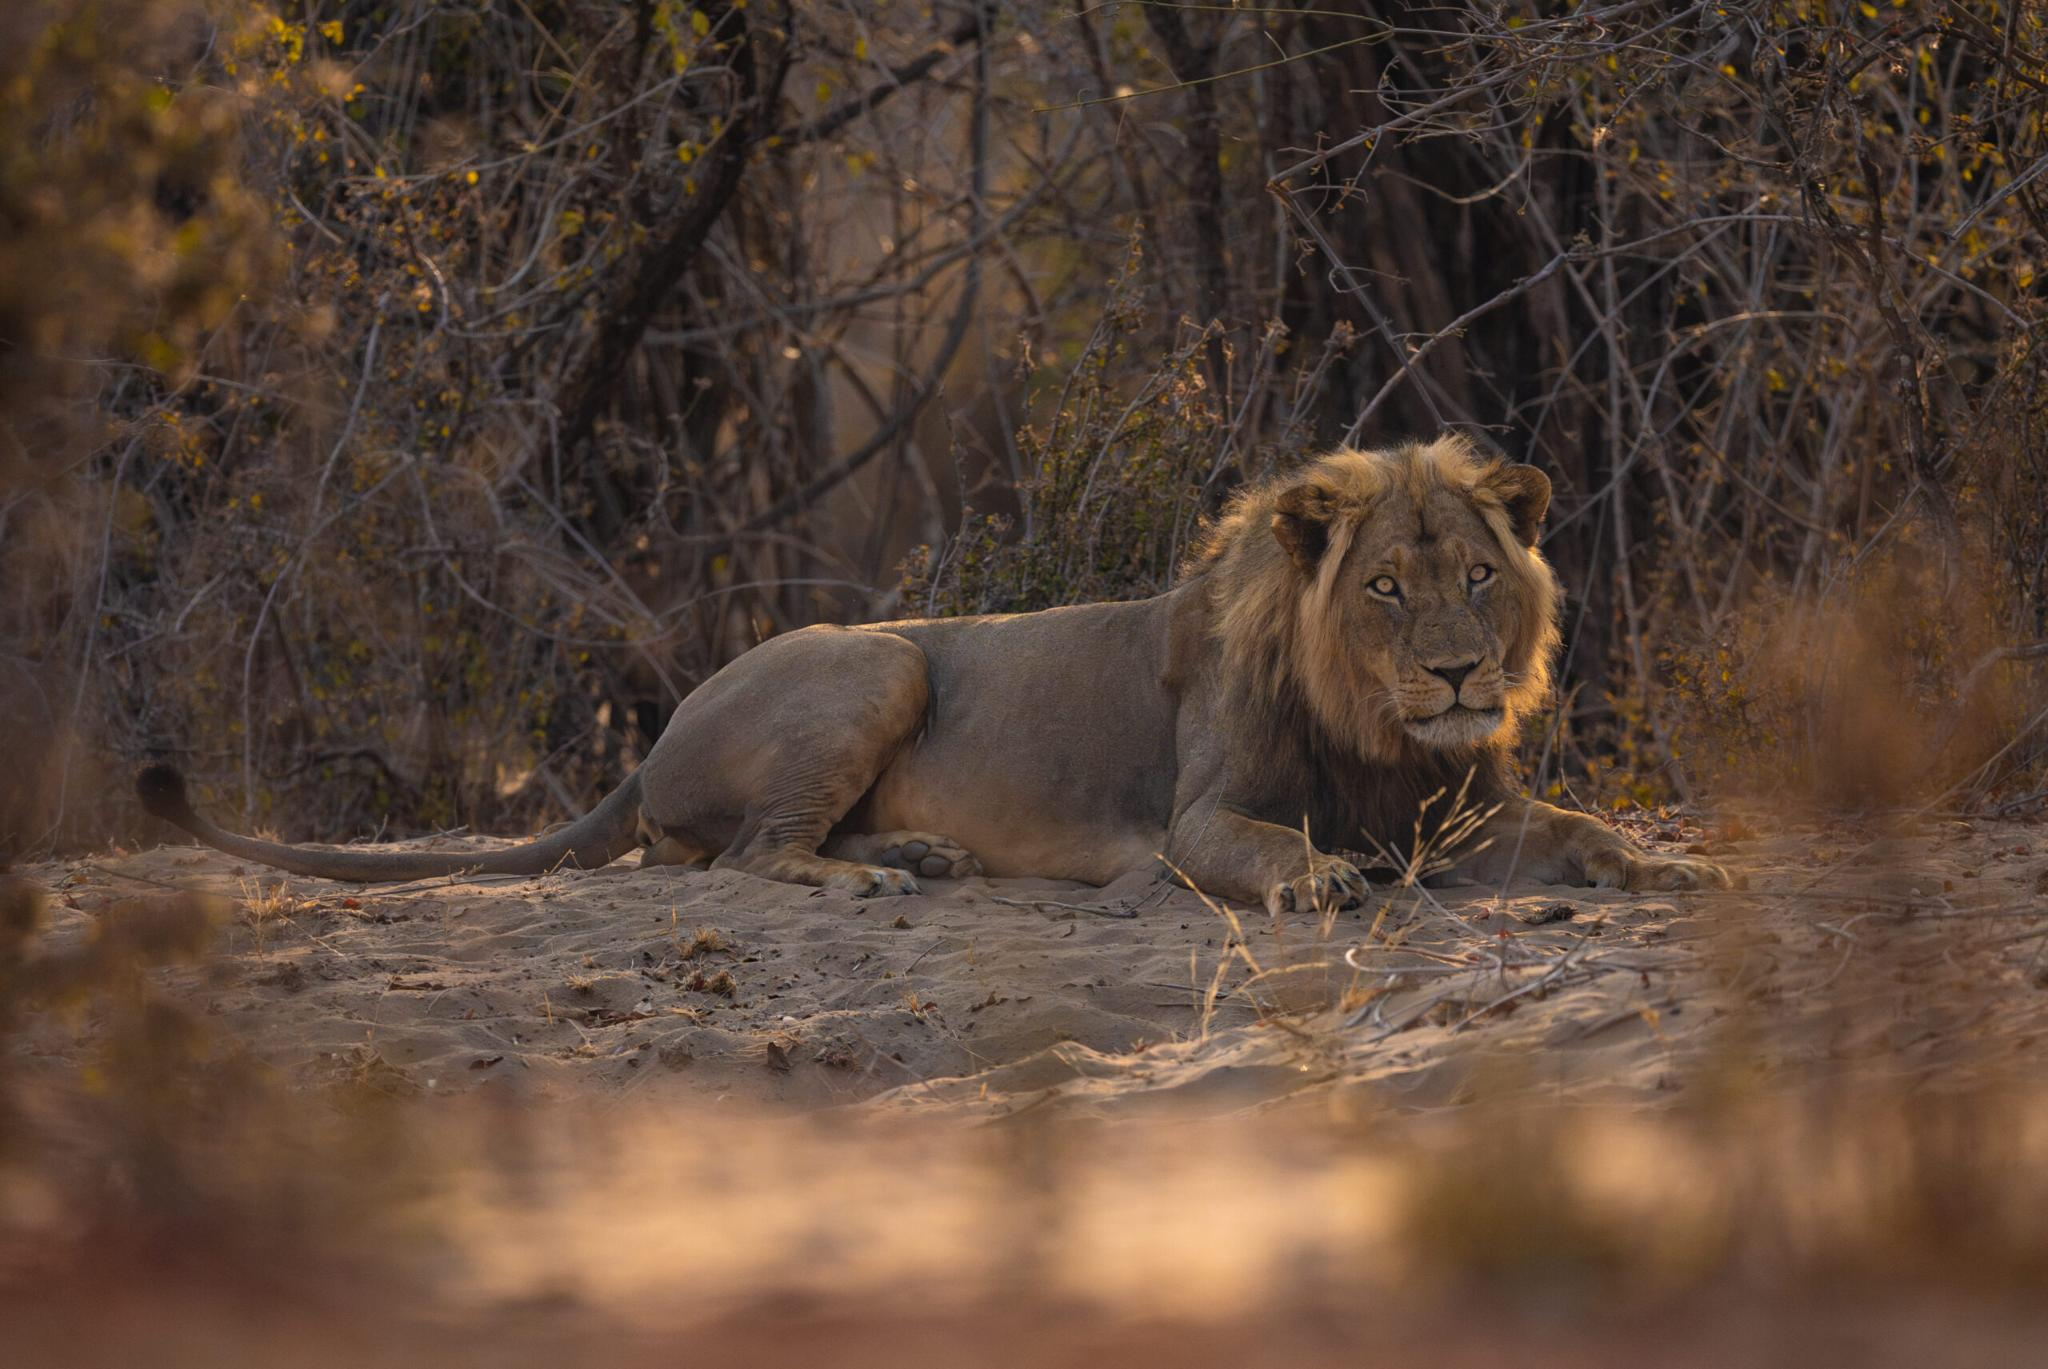lions: (472, 448, 1752, 906)
